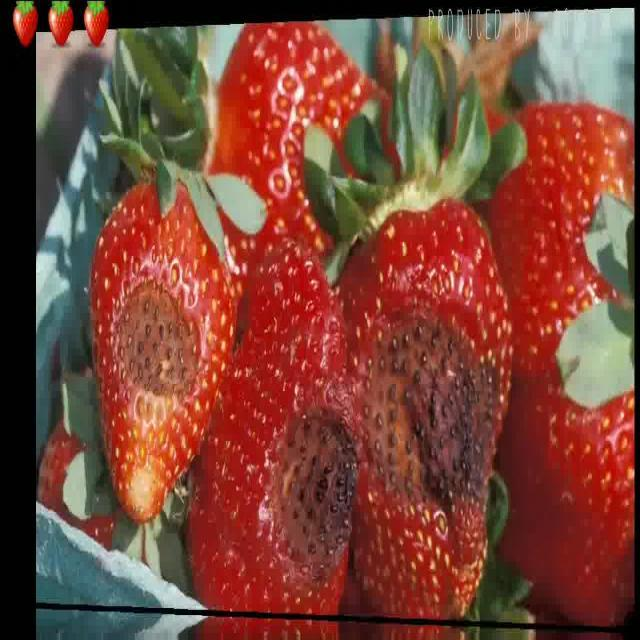Mancha negra Antracnosis: (351, 188, 506, 617), (90, 172, 223, 510), (237, 270, 357, 630)
